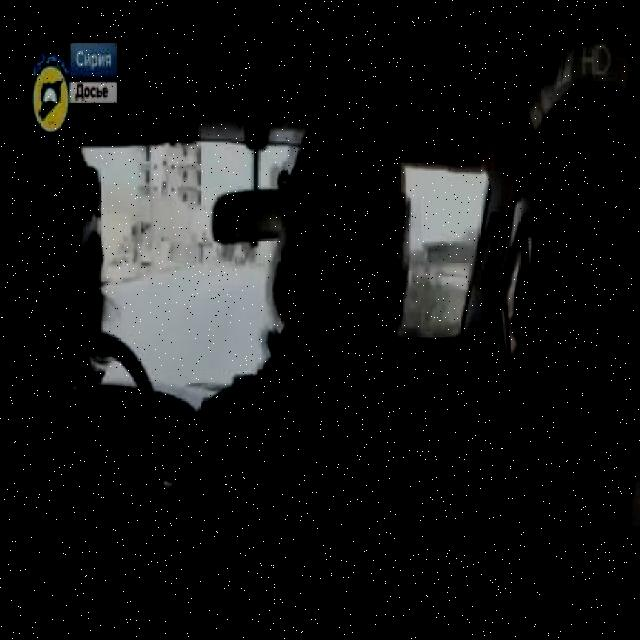Helmet: (272, 96, 414, 282), (506, 81, 631, 282), (0, 118, 106, 296)
